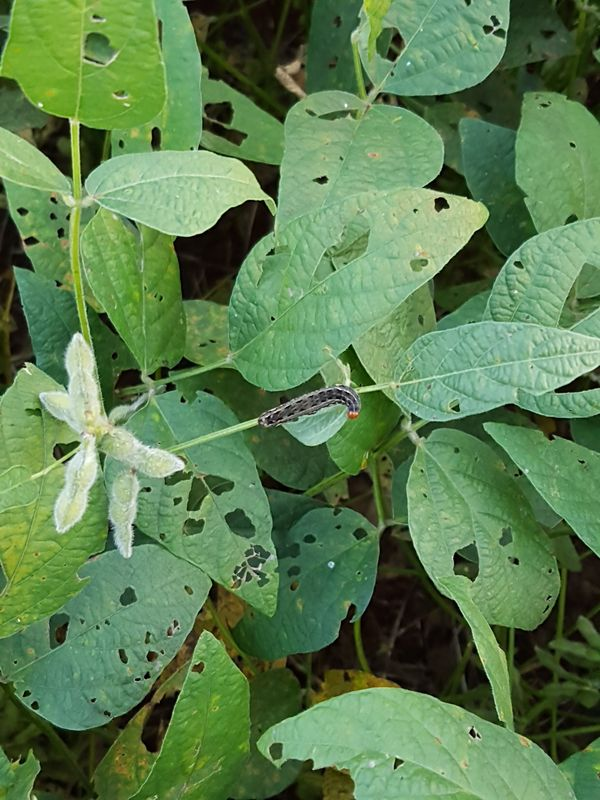Spodoptera_albula: (251, 373, 365, 439)
